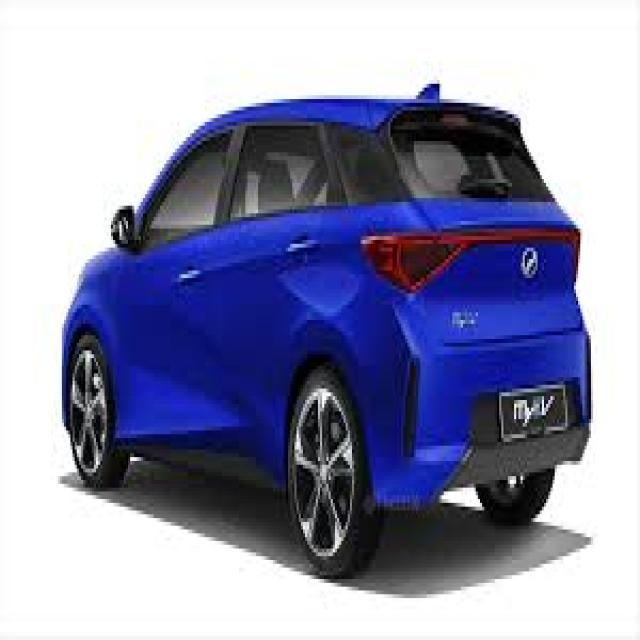PeroduaMyvi: (60, 76, 593, 579)
